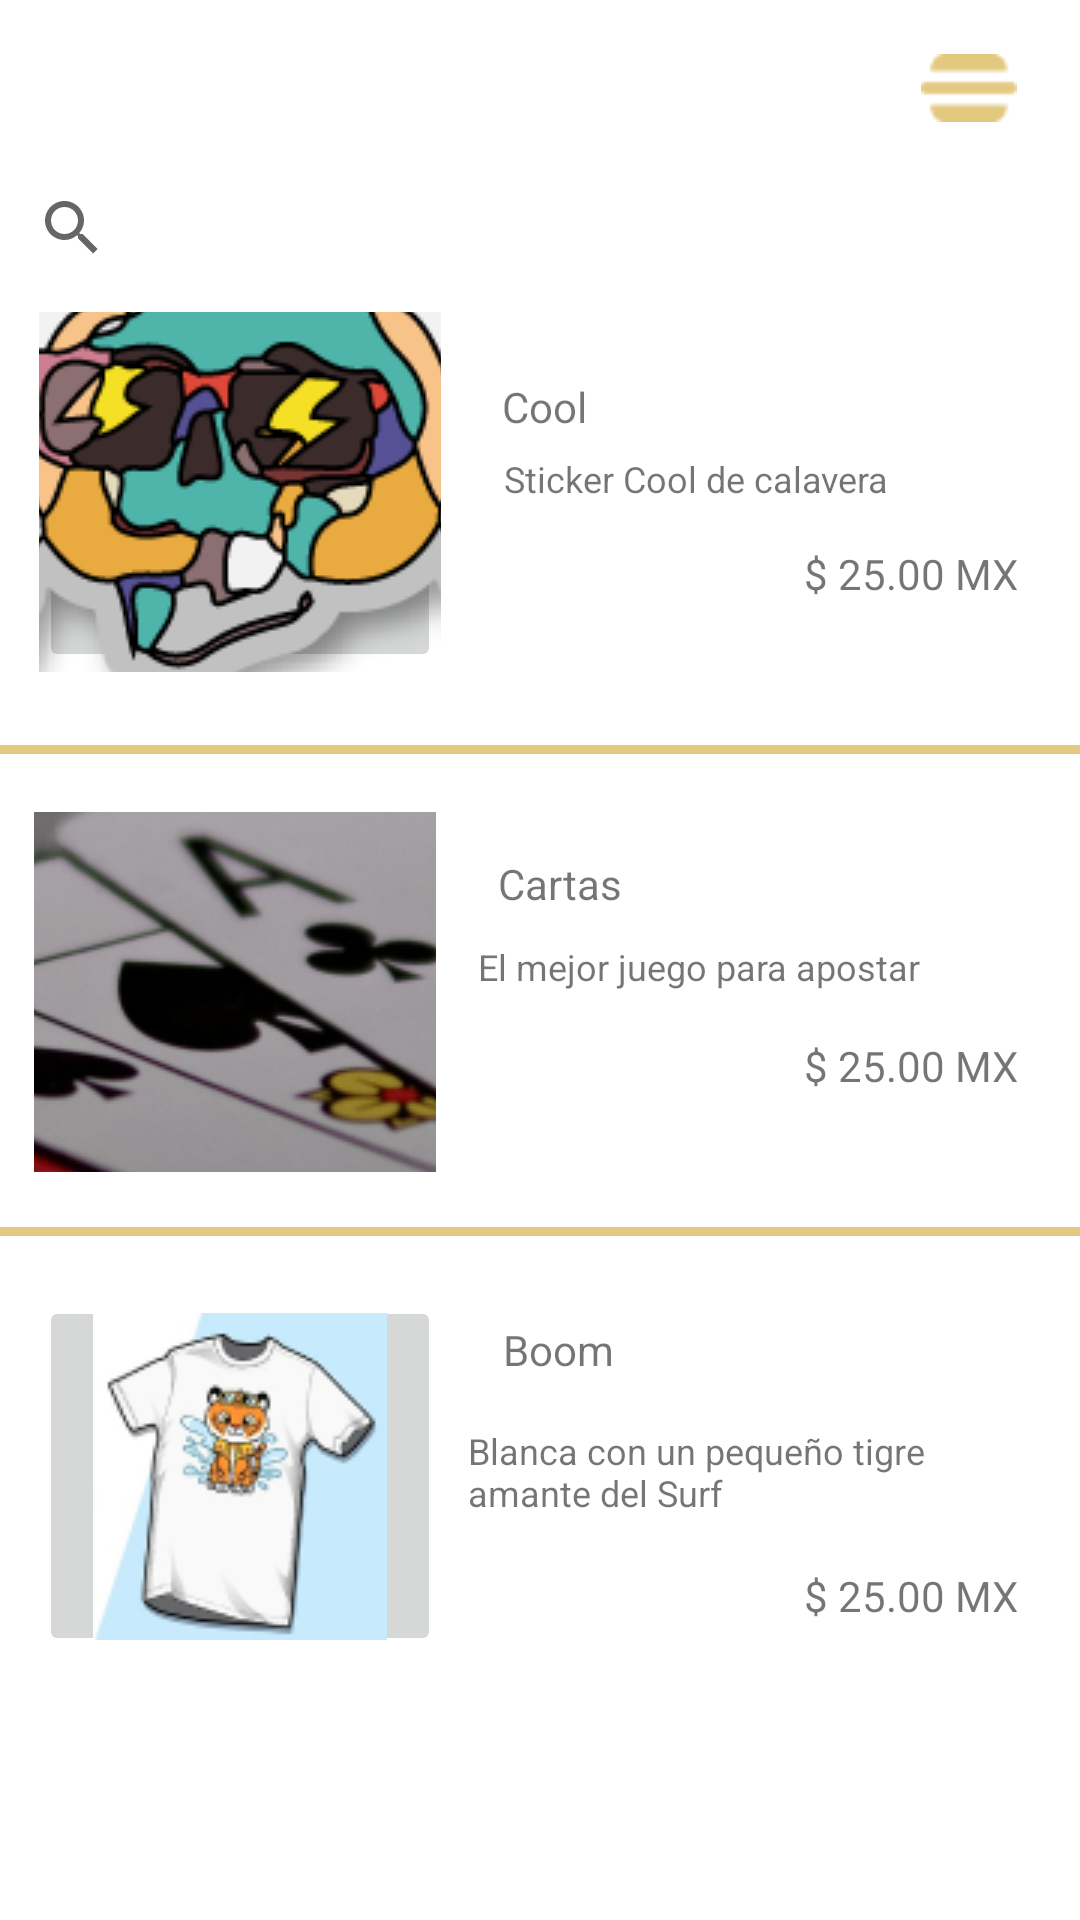

Point at icon controls on the screen. Image size 1080*1920, points as [x,y].
hamburguer: [969,88]
